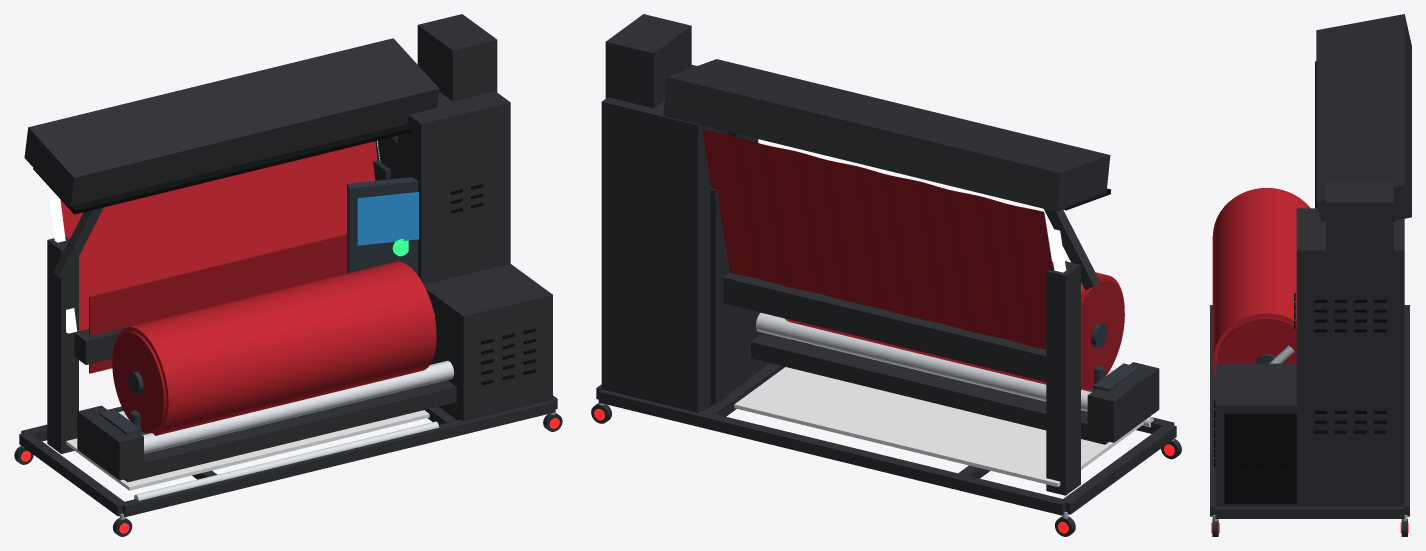
Rendered from kumas-kontrol.glb.
3 renders of one model, left to right at view 1: azimuth 30°, elevation 25°; view 2: azimuth 150°, elevation 25°; view 3: azimuth 270°, elevation 25°, orthographic. The views are drawn at different scales.
Visible parts, largest first — view 1: Asset; view 2: Asset; view 3: Asset.
Boxes of the visible parts, x1,y1,x2,y2 form: Asset: [14, 14, 562, 536]; Asset: [591, 14, 1181, 536]; Asset: [1210, 14, 1411, 536].
Bounding box in the file's own units: 5.5 × 4.1 × 2.24.
